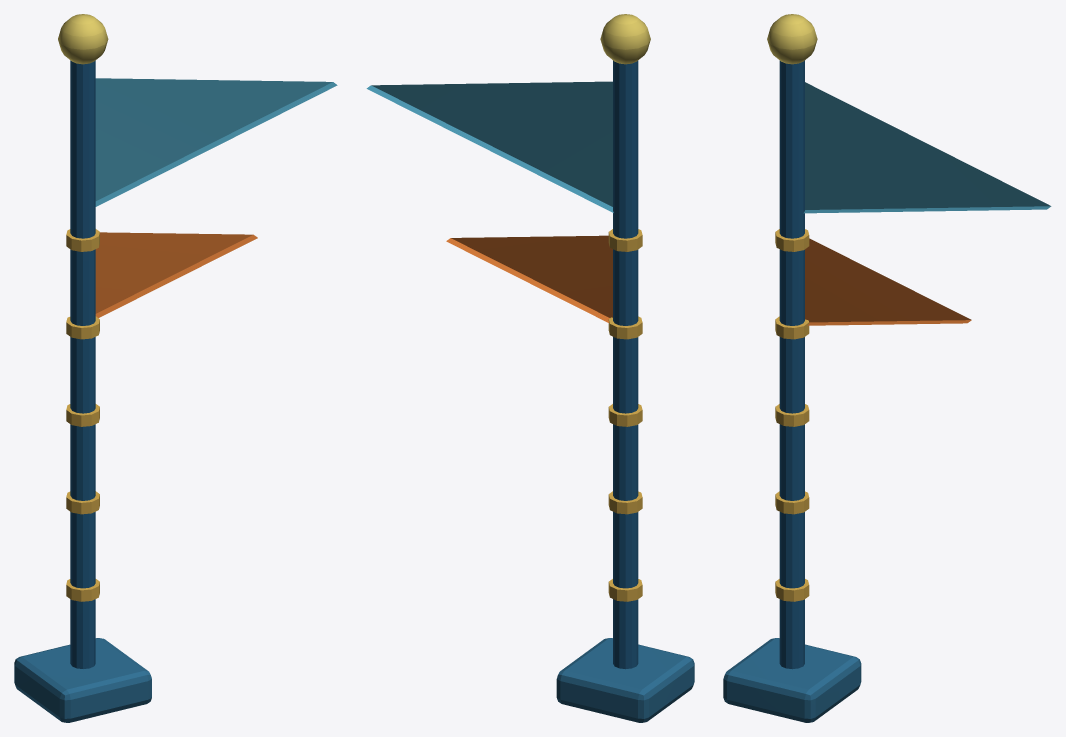
The model's file is glacier_route_flag_v1.glb.
The picture shows the model from 3 angles, left to right: view 1: azimuth 30°, elevation 25°; view 2: azimuth 150°, elevation 25°; view 3: azimuth 330°, elevation 25°; orthographic projection.
Parts seen in each view (by area): view 1: glacier_route_flag_v1; view 2: glacier_route_flag_v1; view 3: glacier_route_flag_v1.
Part boxes in pixels (<box>): glacier_route_flag_v1: <box>14,14,337,722</box>; glacier_route_flag_v1: <box>366,14,694,722</box>; glacier_route_flag_v1: <box>723,14,1051,722</box>.
Bounding box in the file's own units: 1.51 × 3.27 × 0.46.
